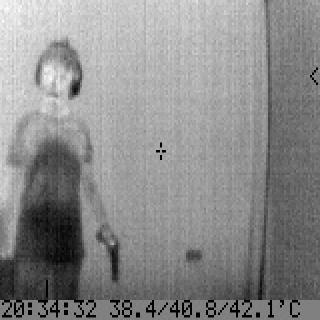Gun: (92, 220, 122, 285)
